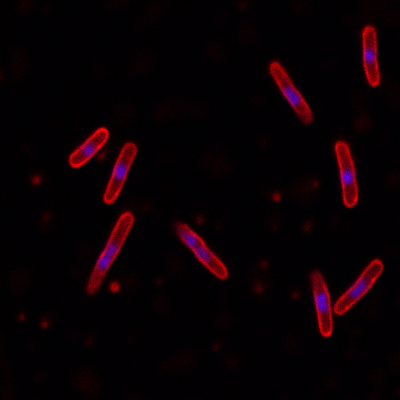Nalidixate: (332, 259, 386, 315), (102, 141, 139, 204), (333, 140, 359, 208), (68, 127, 109, 169), (361, 24, 382, 87)
Oblique: (86, 212, 134, 295), (172, 221, 229, 281), (268, 59, 313, 124), (308, 270, 334, 338)
Vesicle: (110, 282, 121, 294), (253, 283, 264, 295), (193, 213, 205, 224), (258, 259, 269, 270), (16, 313, 26, 323), (31, 175, 40, 185), (40, 319, 49, 329), (272, 193, 281, 203), (290, 290, 299, 300)
